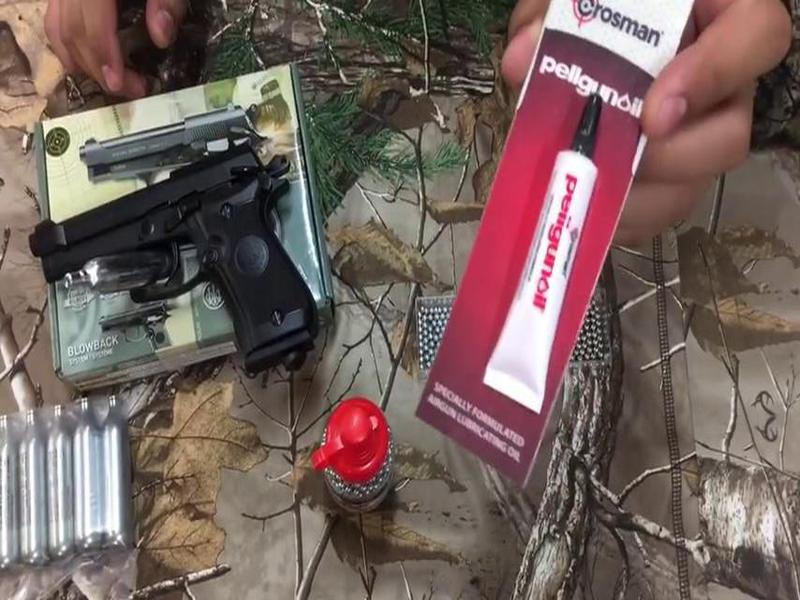Pistola: (30, 172, 327, 379)
